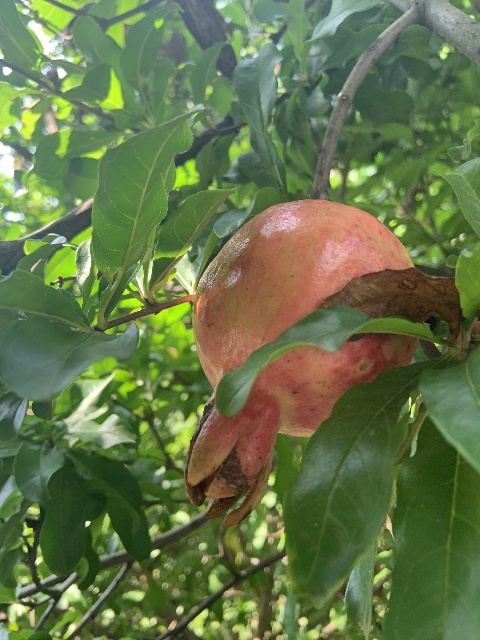ripe: (185, 198, 418, 528)
